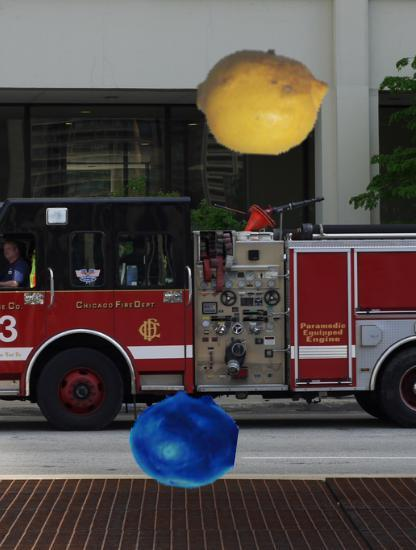Huckleberry: (130, 386, 237, 493)
Lemon: (195, 34, 330, 169)
